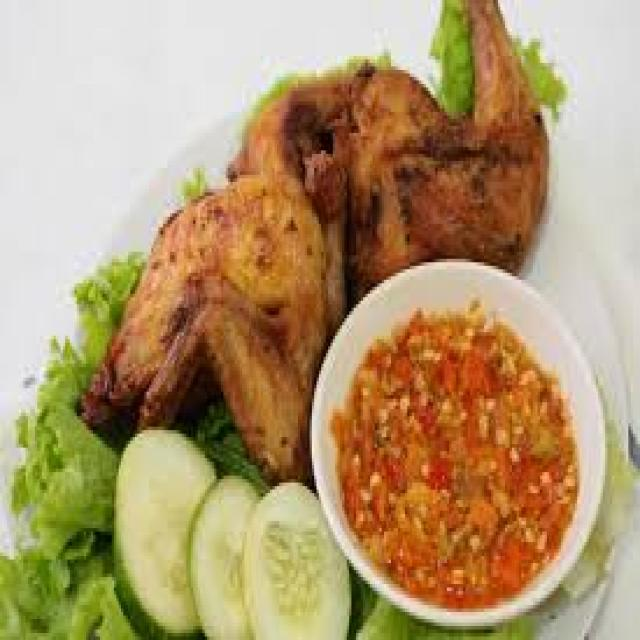ayam_goreng: (88, 6, 540, 458), (114, 97, 316, 446), (321, 46, 547, 260)
